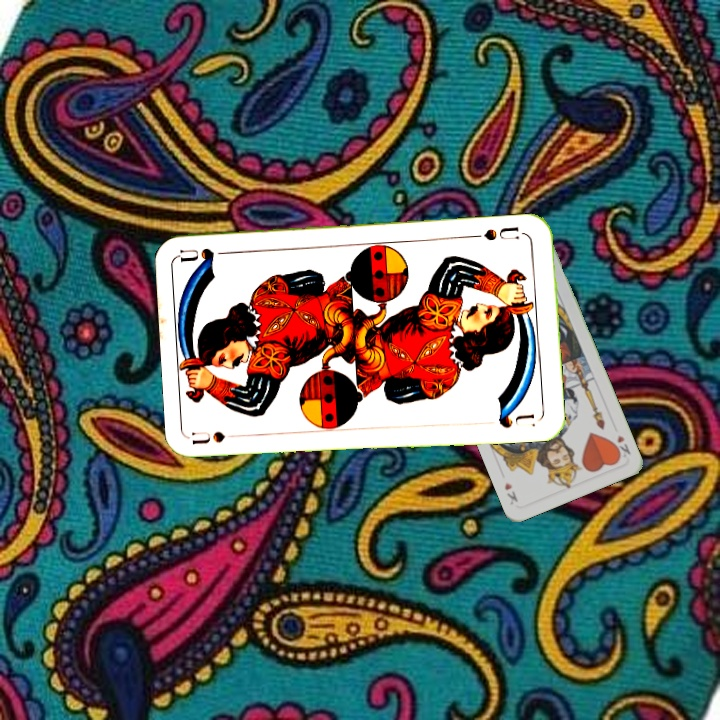HK: (609, 431, 633, 463)
SU: (469, 223, 528, 244), (190, 427, 249, 446)
